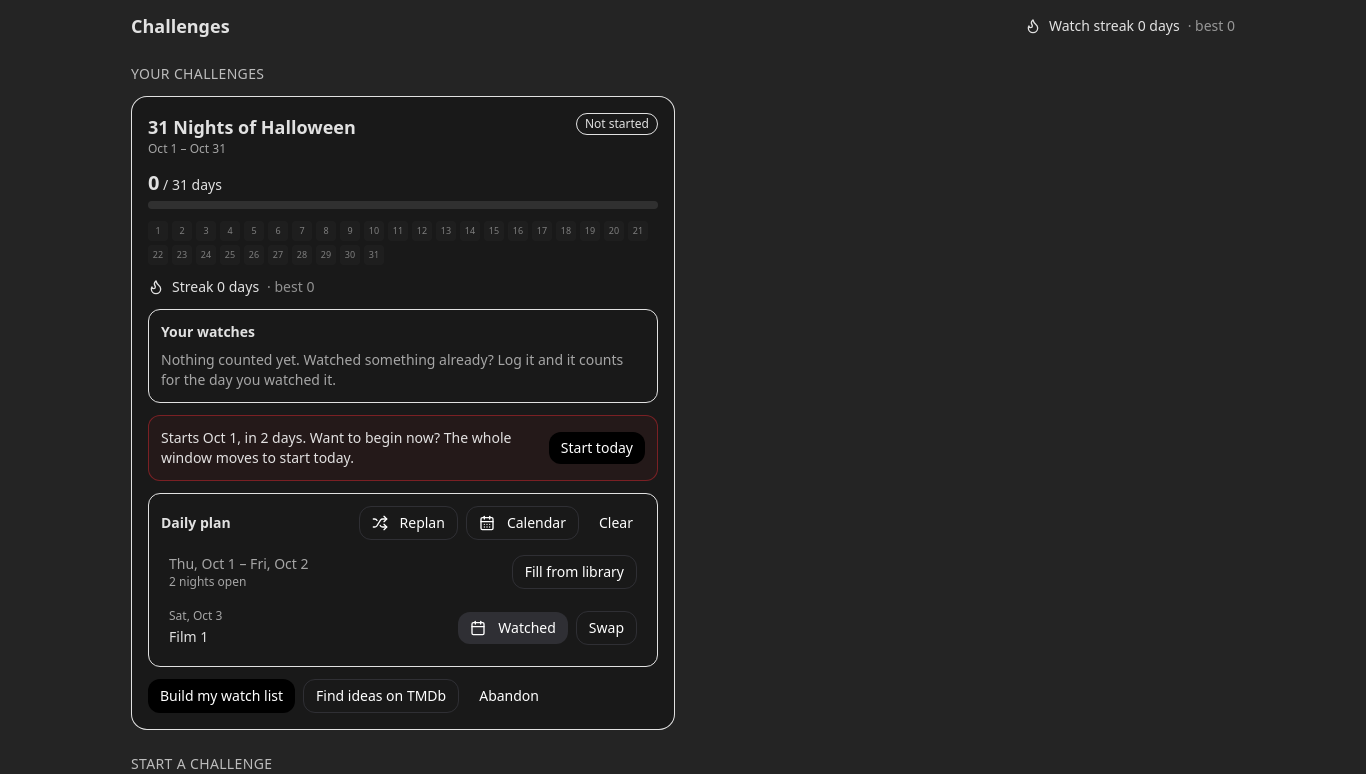
Test: challenge start and daily plan › fills open nights from the library when it has films to give
This screenshot has width=1366, height=774.
Expected: the text "2 nights open" is shown, [169,573,246,590]
What coordinates should you click on to do the following:
click the button "Fill from library"
I would click on:
 (574, 572)
Its box is [512,555,637,589].
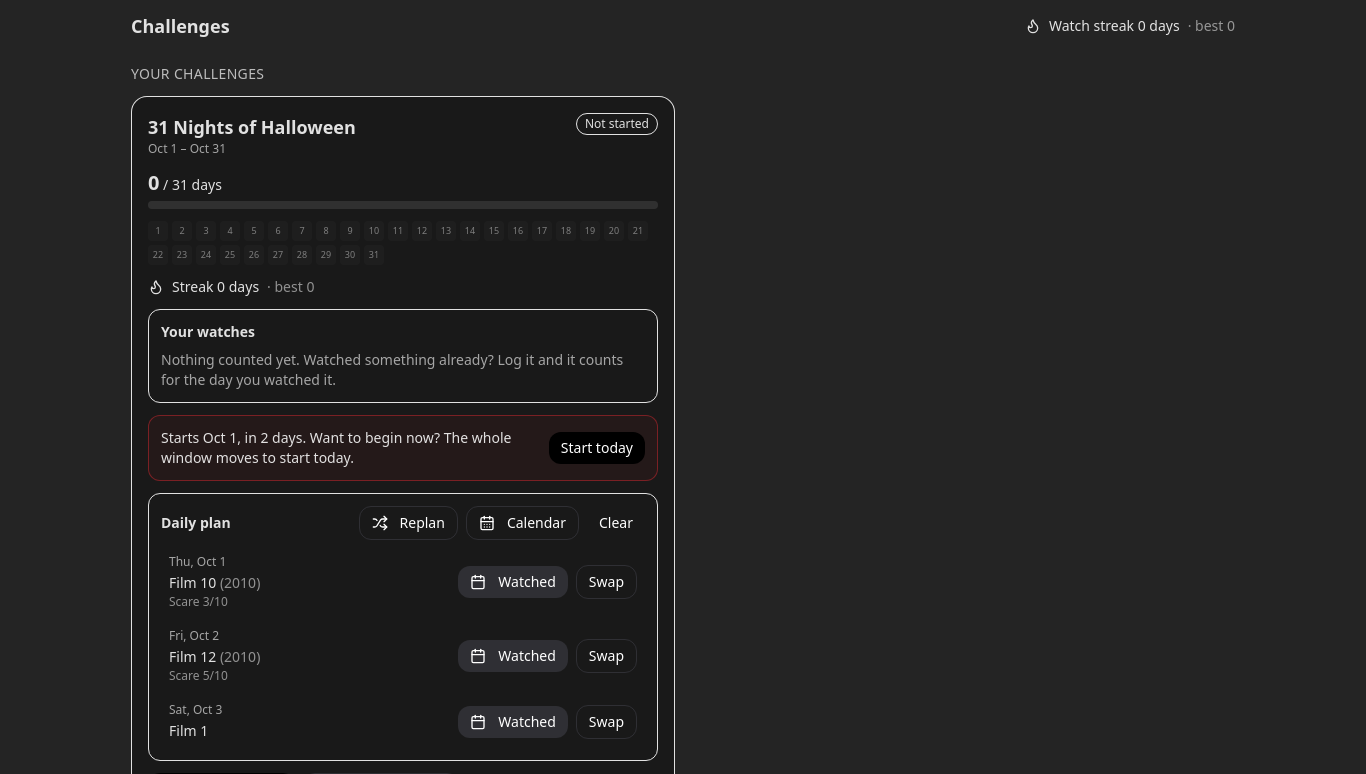
Result: the text "2 nights open" is gone
Result: the number of buttons "Film 10" is 3 at [169,573,216,593]; [169,647,216,667]; [169,721,208,741]
